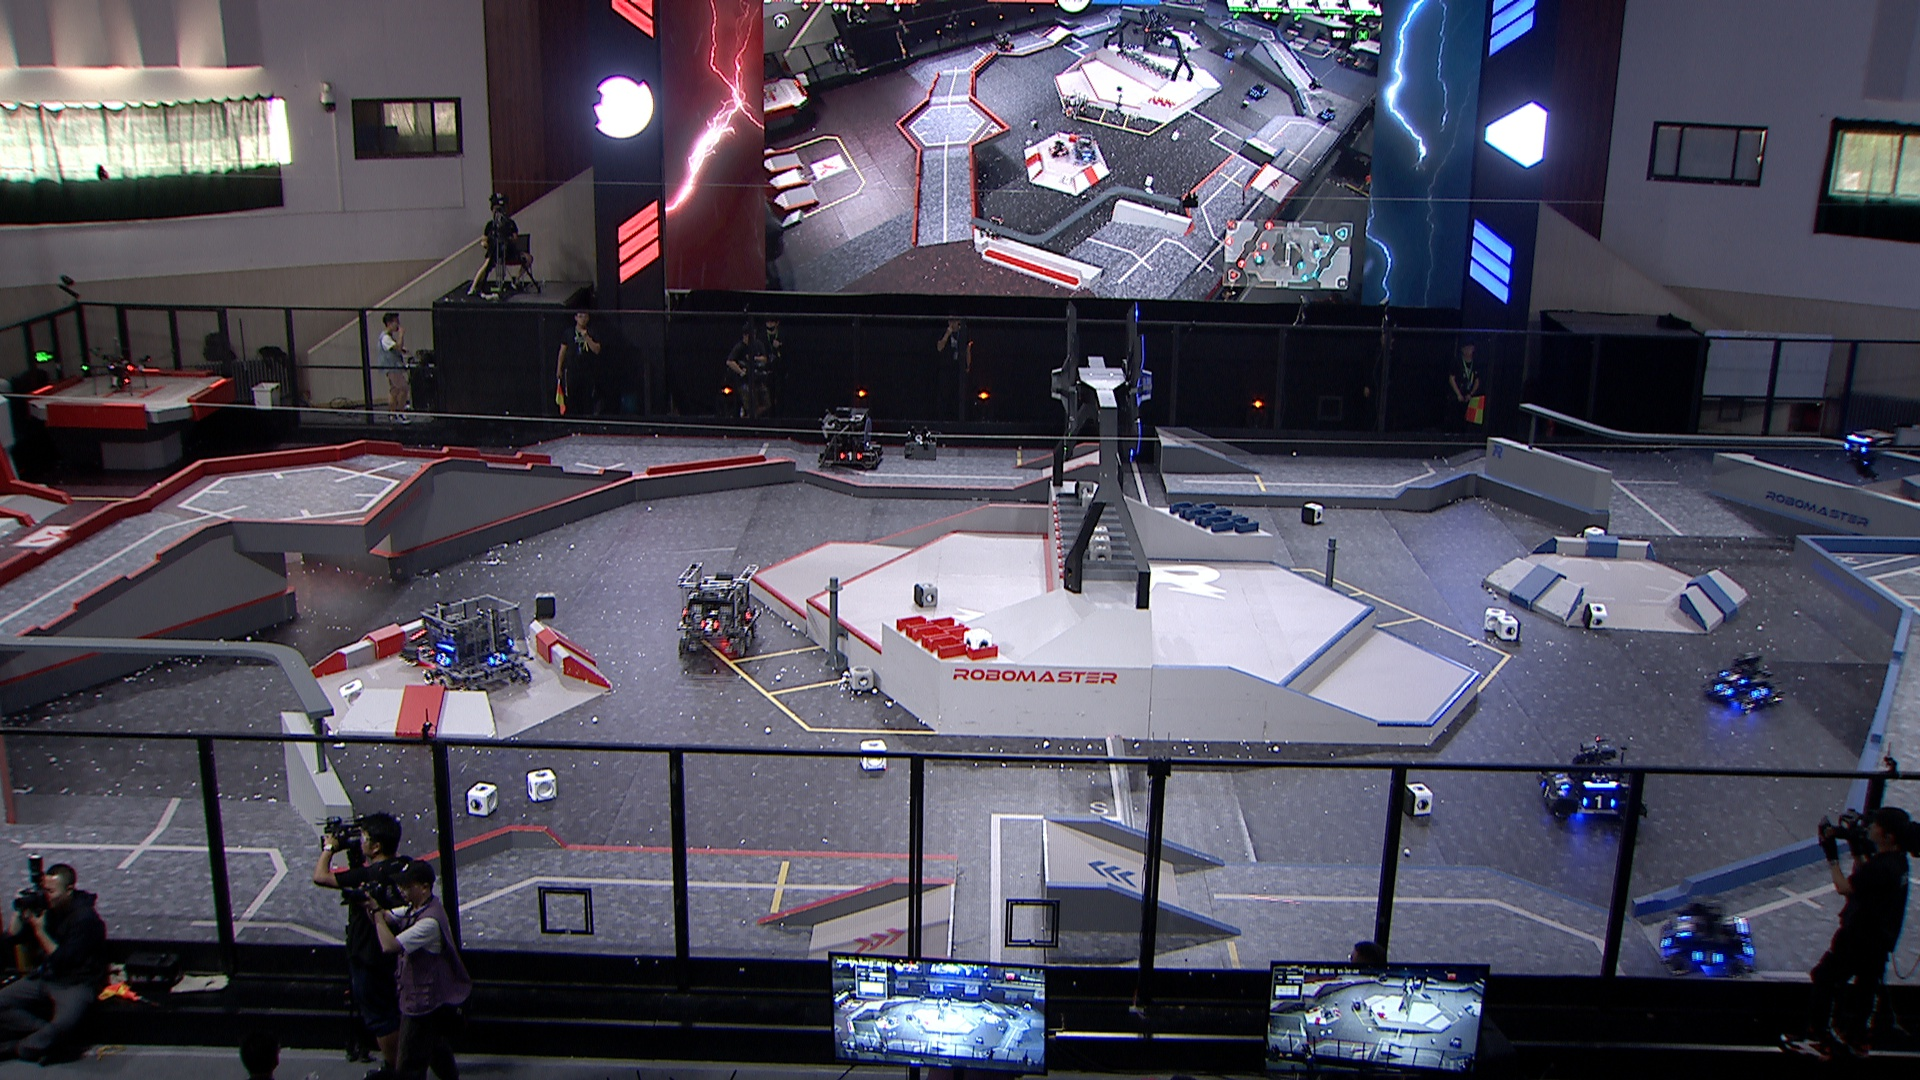armor: (1692, 945, 1724, 967), (1580, 796, 1618, 811), (1720, 669, 1747, 688), (1673, 915, 1695, 939), (1539, 779, 1557, 803), (1747, 684, 1771, 702), (1844, 440, 1869, 456), (1553, 771, 1572, 793), (1712, 683, 1735, 698), (698, 617, 719, 633), (489, 651, 508, 669), (434, 651, 452, 669), (839, 451, 864, 462), (870, 450, 884, 463)
car: (419, 593, 535, 698), (1538, 742, 1647, 835), (675, 560, 760, 665), (1658, 898, 1755, 978), (816, 404, 887, 473), (1702, 654, 1780, 717), (396, 613, 468, 669)
ignore: (1059, 96, 1087, 120), (982, 214, 1005, 243), (1076, 138, 1097, 166), (1048, 140, 1069, 160), (994, 33, 1015, 53), (1247, 83, 1269, 102), (1317, 107, 1337, 125), (1224, 44, 1237, 61)
watcher: (1842, 429, 1892, 481)
